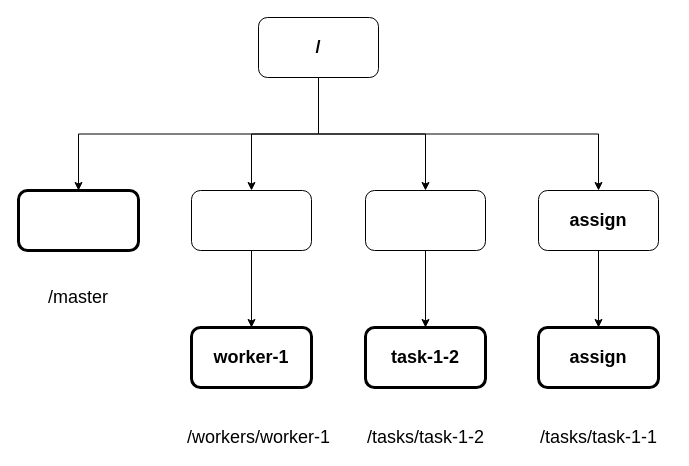
Image size: 689x466. Some labels were removed from this diagram. Each missing label, with the centre of its shape:
"server id" goes at (x=78, y=220).
"tasks" goes at (x=425, y=220).
"workers" goes at (x=251, y=220).
